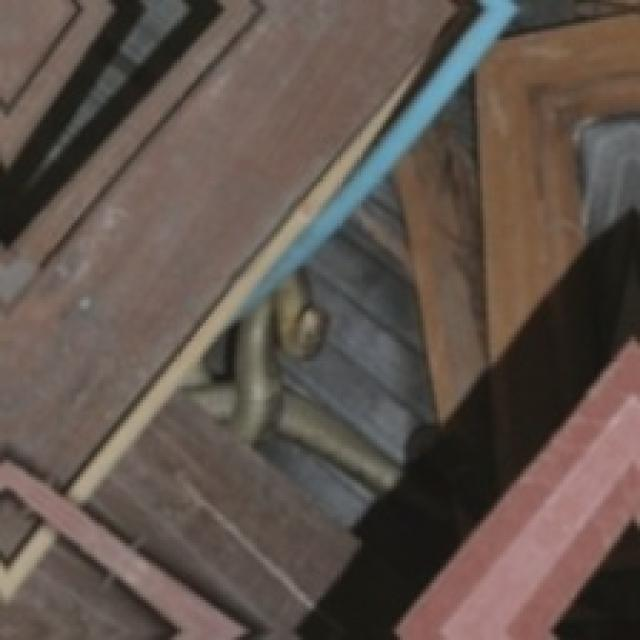king cobra: (183, 274, 400, 491)
